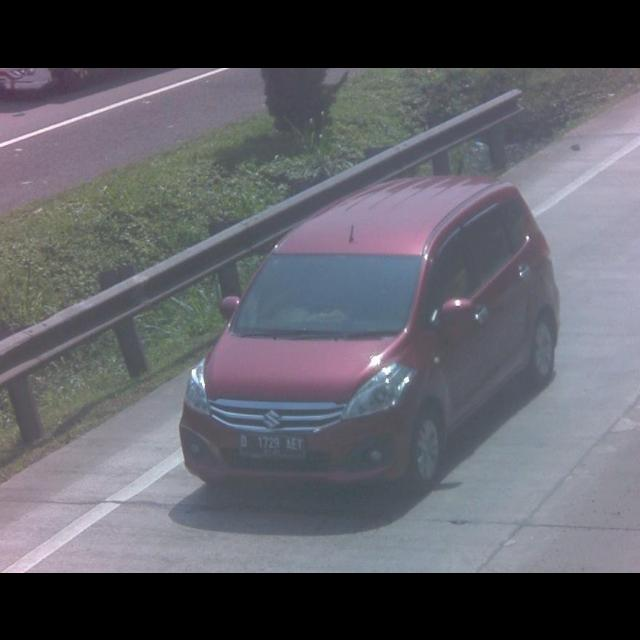plate: (237, 430, 307, 458)
